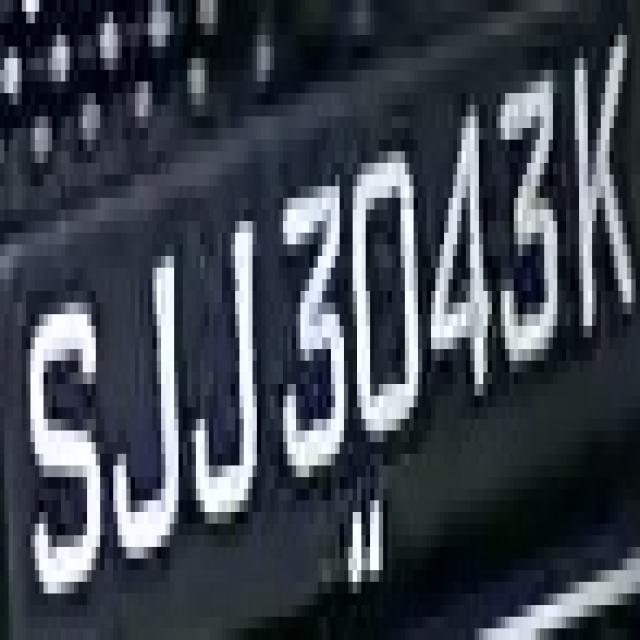0: (336, 128, 436, 465)
3: (479, 58, 562, 361), (261, 198, 344, 489)
4: (418, 70, 509, 396)
J: (174, 198, 270, 547), (109, 221, 191, 570)
S: (17, 256, 109, 617)
